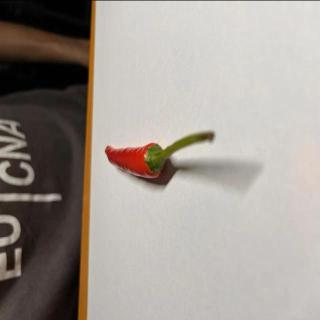Cabai Merah: (105, 132, 216, 180)
